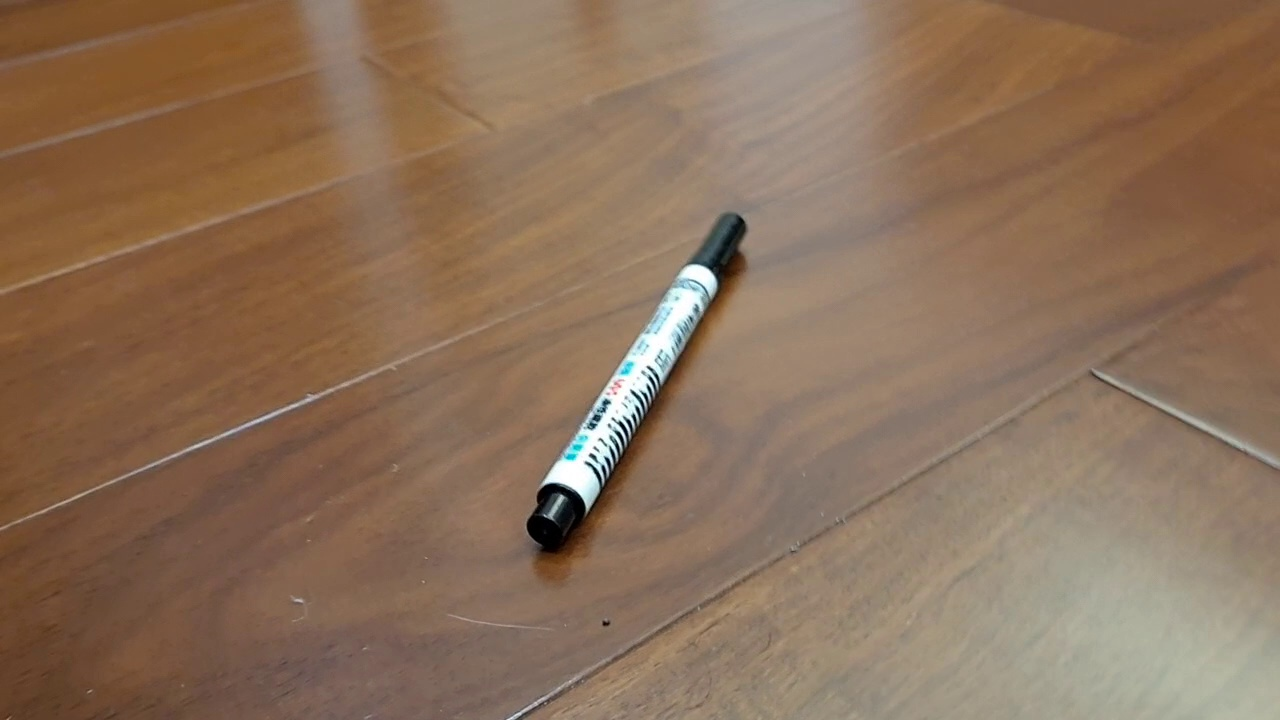pen: (526, 210, 748, 553)
